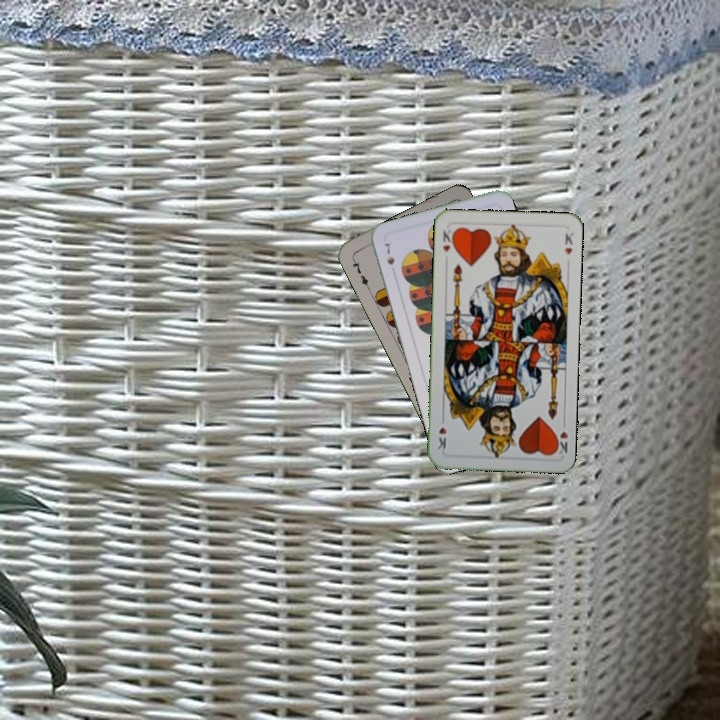E7: (348, 254, 372, 292)
HK: (551, 416, 571, 457), (439, 226, 457, 255)
S7: (380, 239, 397, 268)
